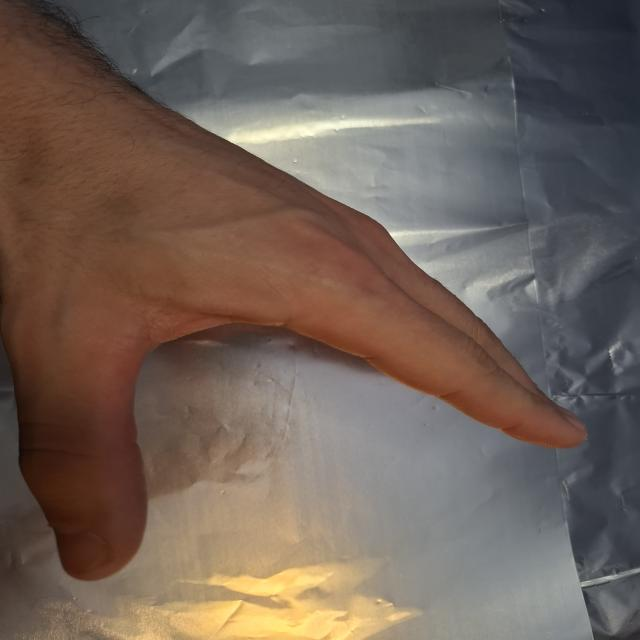glove_off: (0, 128, 592, 583)
